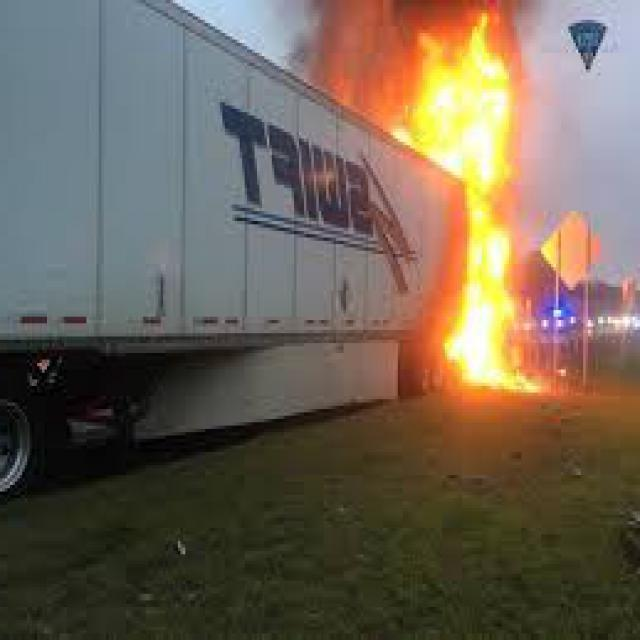Fire: (382, 14, 574, 412)
Smoke: (302, 7, 380, 100)
